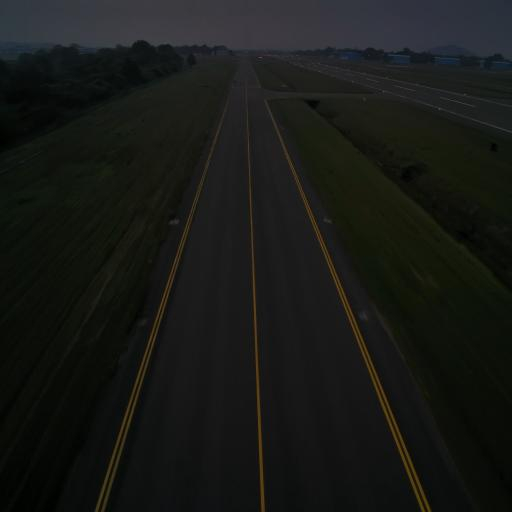on: (174, 216, 178, 222), (324, 214, 327, 221)
